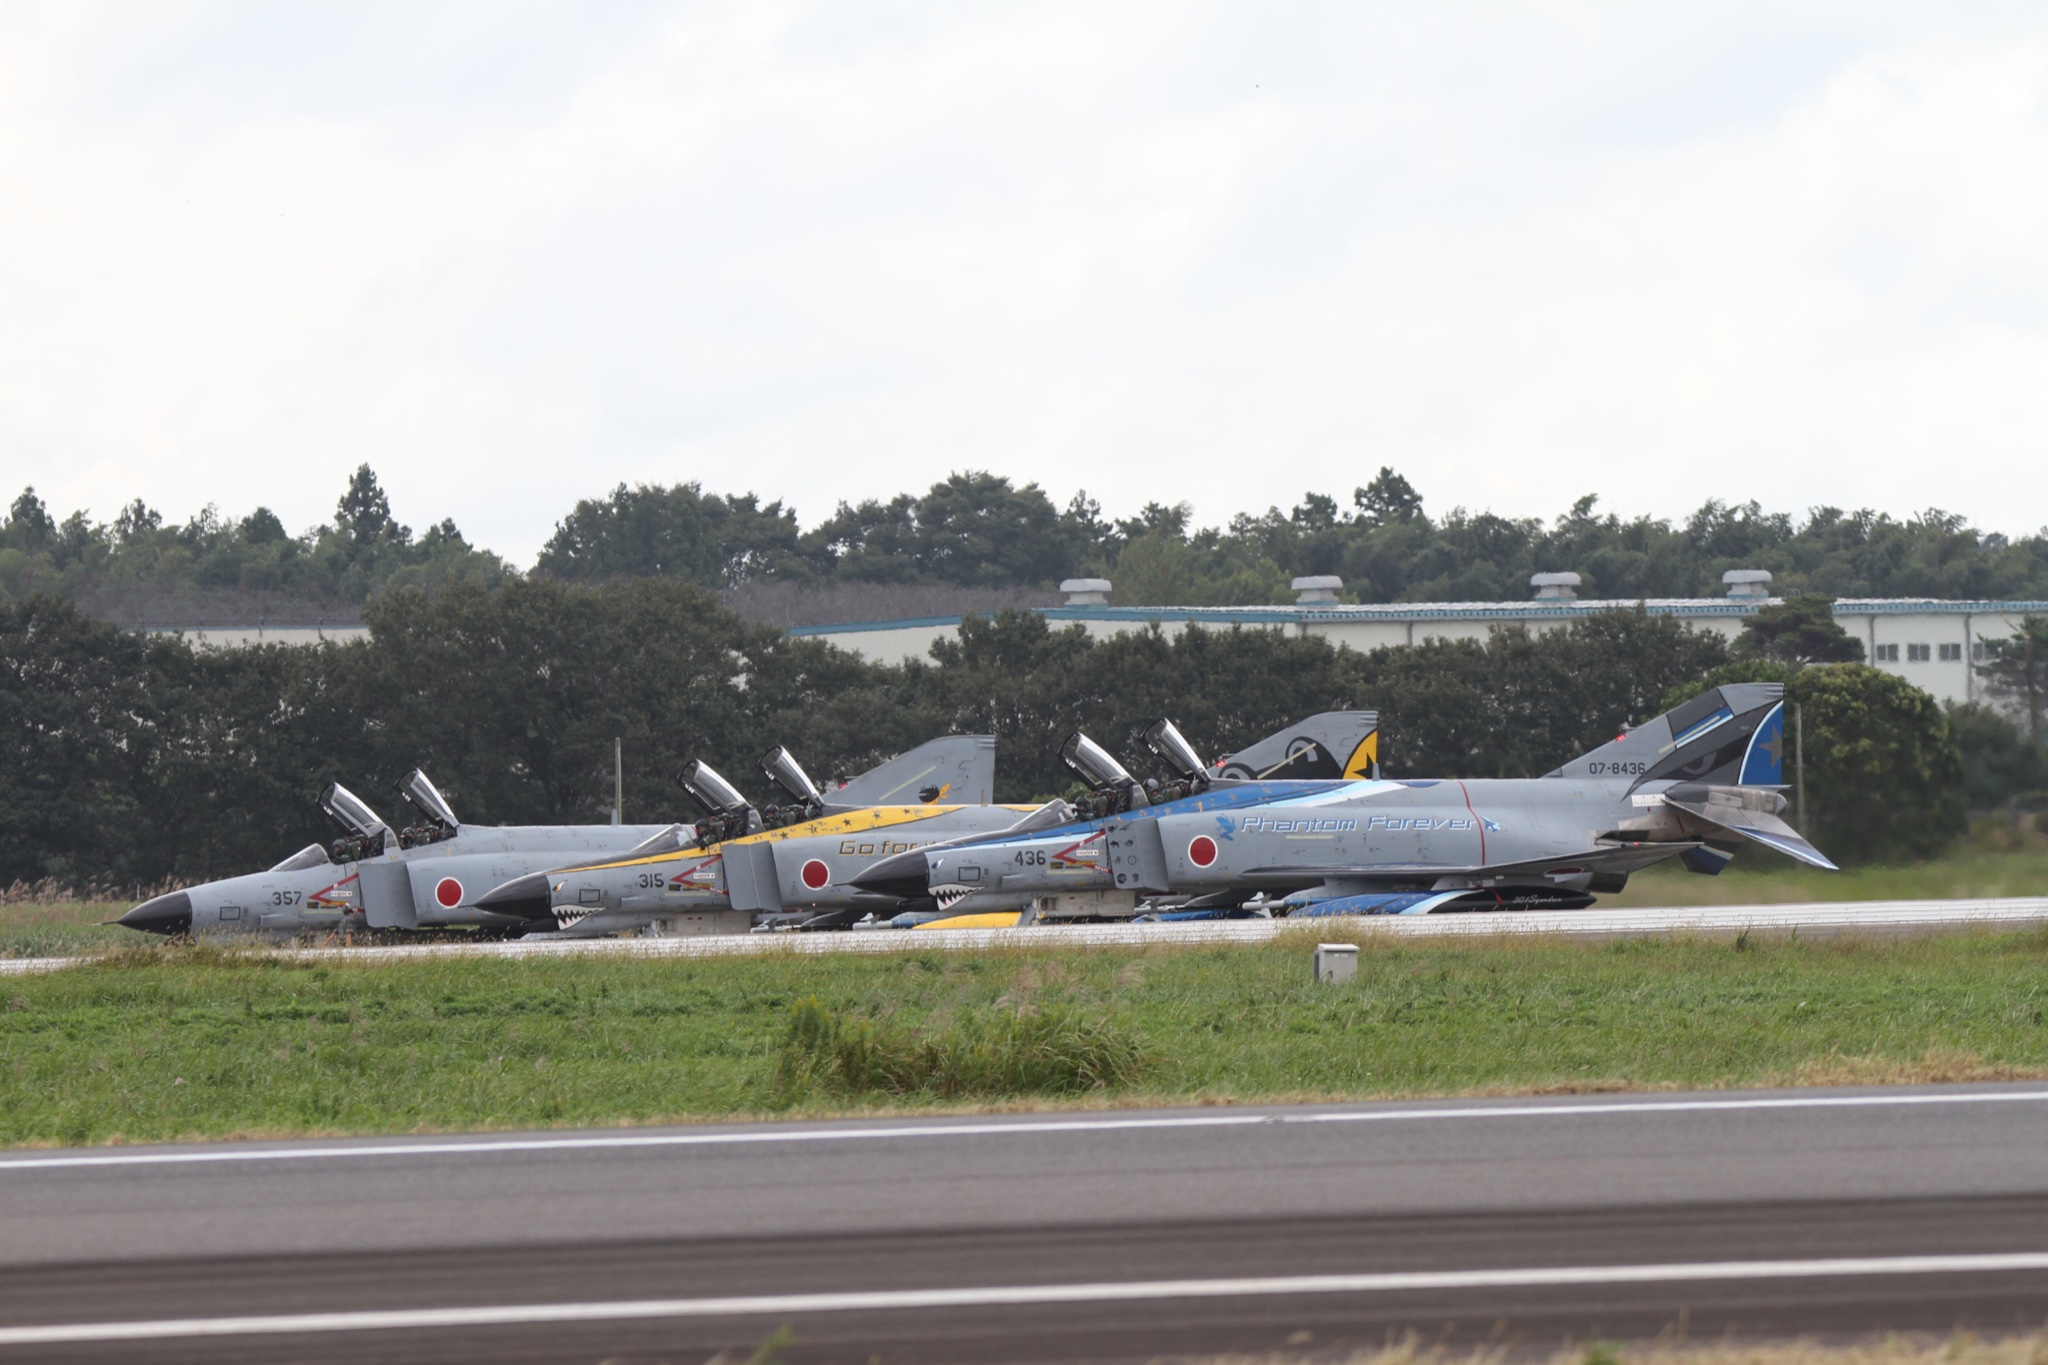F4: (818, 682, 1841, 926), (442, 708, 1381, 937), (88, 734, 999, 948)
